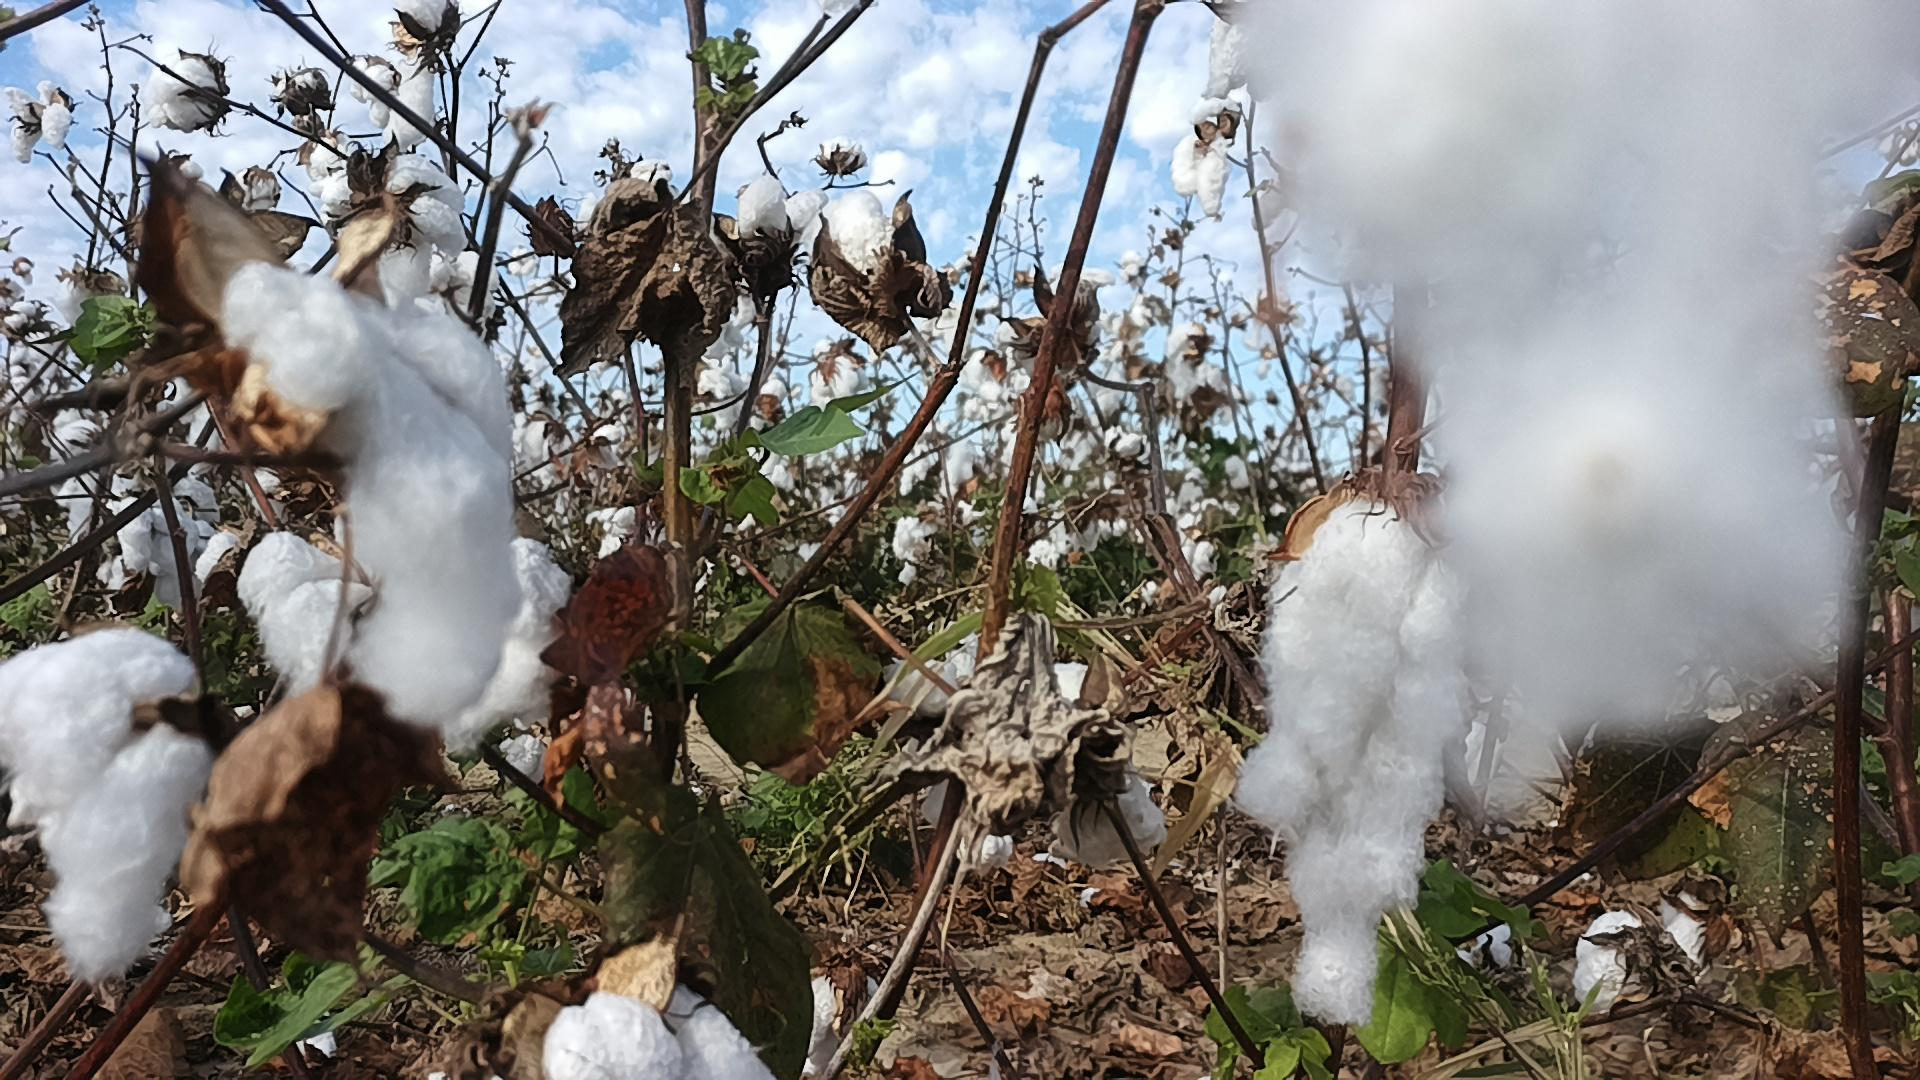cotton_ready: (1230, 0, 1920, 825), (224, 264, 518, 731), (1232, 498, 1478, 1025), (0, 630, 218, 985), (444, 541, 578, 757), (237, 530, 382, 702), (542, 985, 798, 1080), (887, 618, 993, 824), (322, 157, 468, 295), (996, 265, 1113, 381), (1054, 769, 1171, 868), (1203, 4, 1308, 103), (1568, 909, 1665, 1013), (818, 191, 907, 303), (113, 488, 193, 615), (1662, 878, 1753, 982), (716, 178, 828, 261), (799, 968, 887, 1071), (396, 1, 454, 145), (1168, 103, 1238, 215), (1058, 658, 1138, 733), (0, 83, 70, 164), (154, 61, 225, 131)
